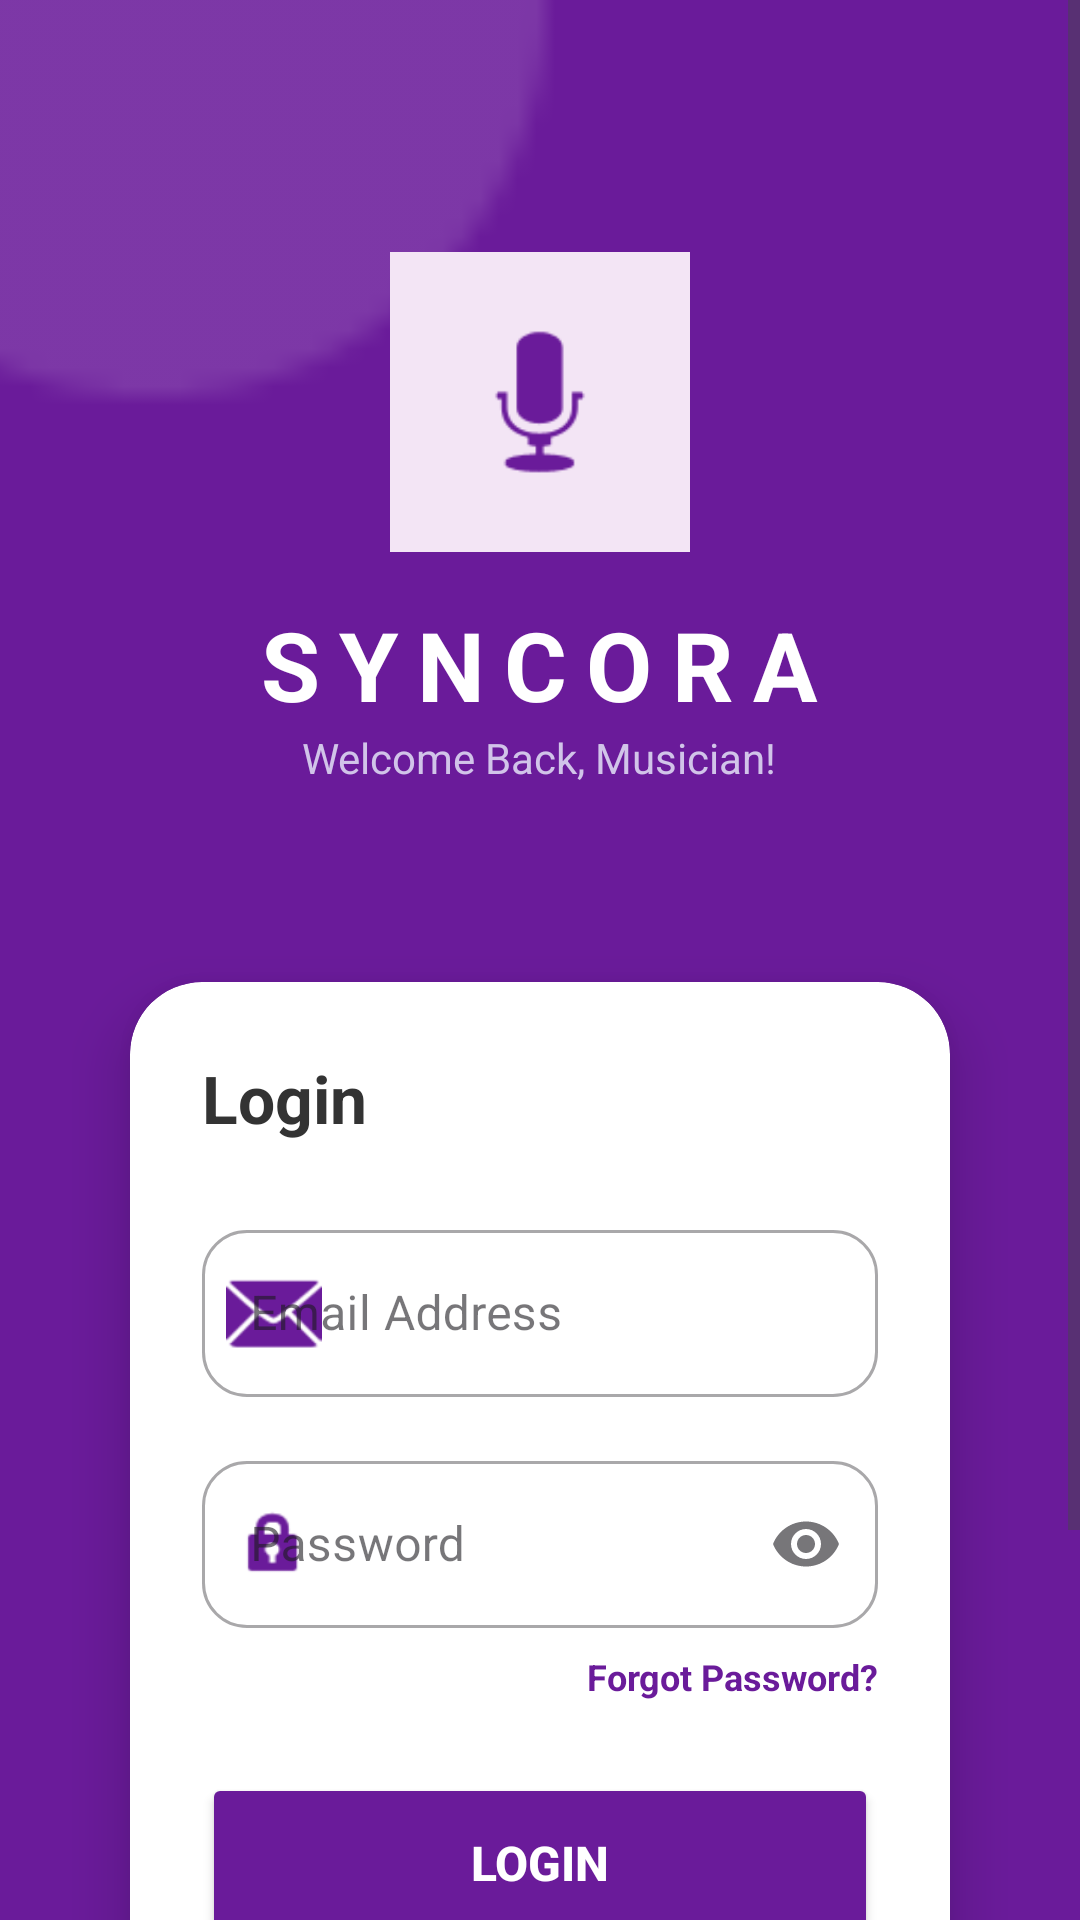

Screen size 1080px×1920px. Icon name, then its center in pixels as [x,y]:
speak now: [540,402]
